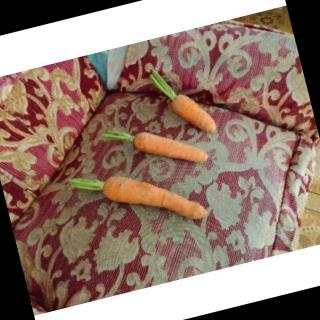Wortel: (26, 40, 285, 261)
